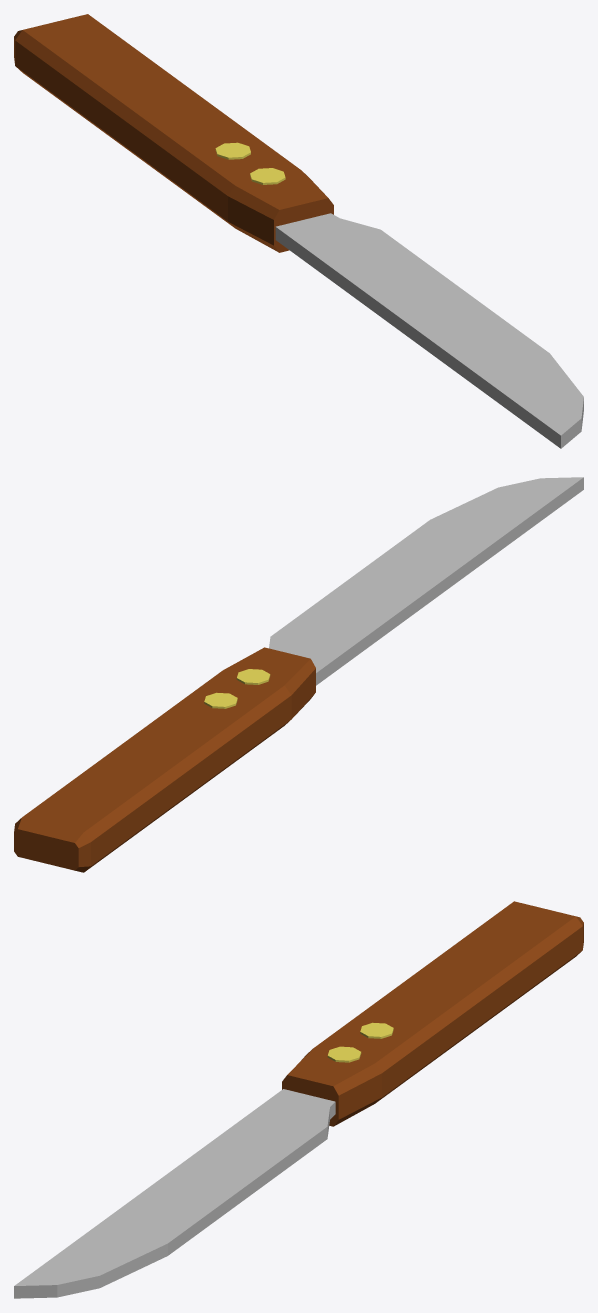
The model's file is Cuchillo.fbx.
3 renders of one model, top to bottom at view 1: azimuth 30°, elevation 25°; view 2: azimuth 150°, elevation 25°; view 3: azimuth 330°, elevation 25°, orthographic. The views are drawn at different scales.
Parts seen in each view (by area): view 1: Cuchillo; view 2: Cuchillo; view 3: Cuchillo.
Part boxes in pixels (x1=…): Cuchillo: x1=14, y1=14, x2=583, y2=448; Cuchillo: x1=14, y1=477, x2=583, y2=872; Cuchillo: x1=14, y1=901, x2=583, y2=1298.
Bounding box in the file's own units: 3.92 × 1.92 × 41.98.
